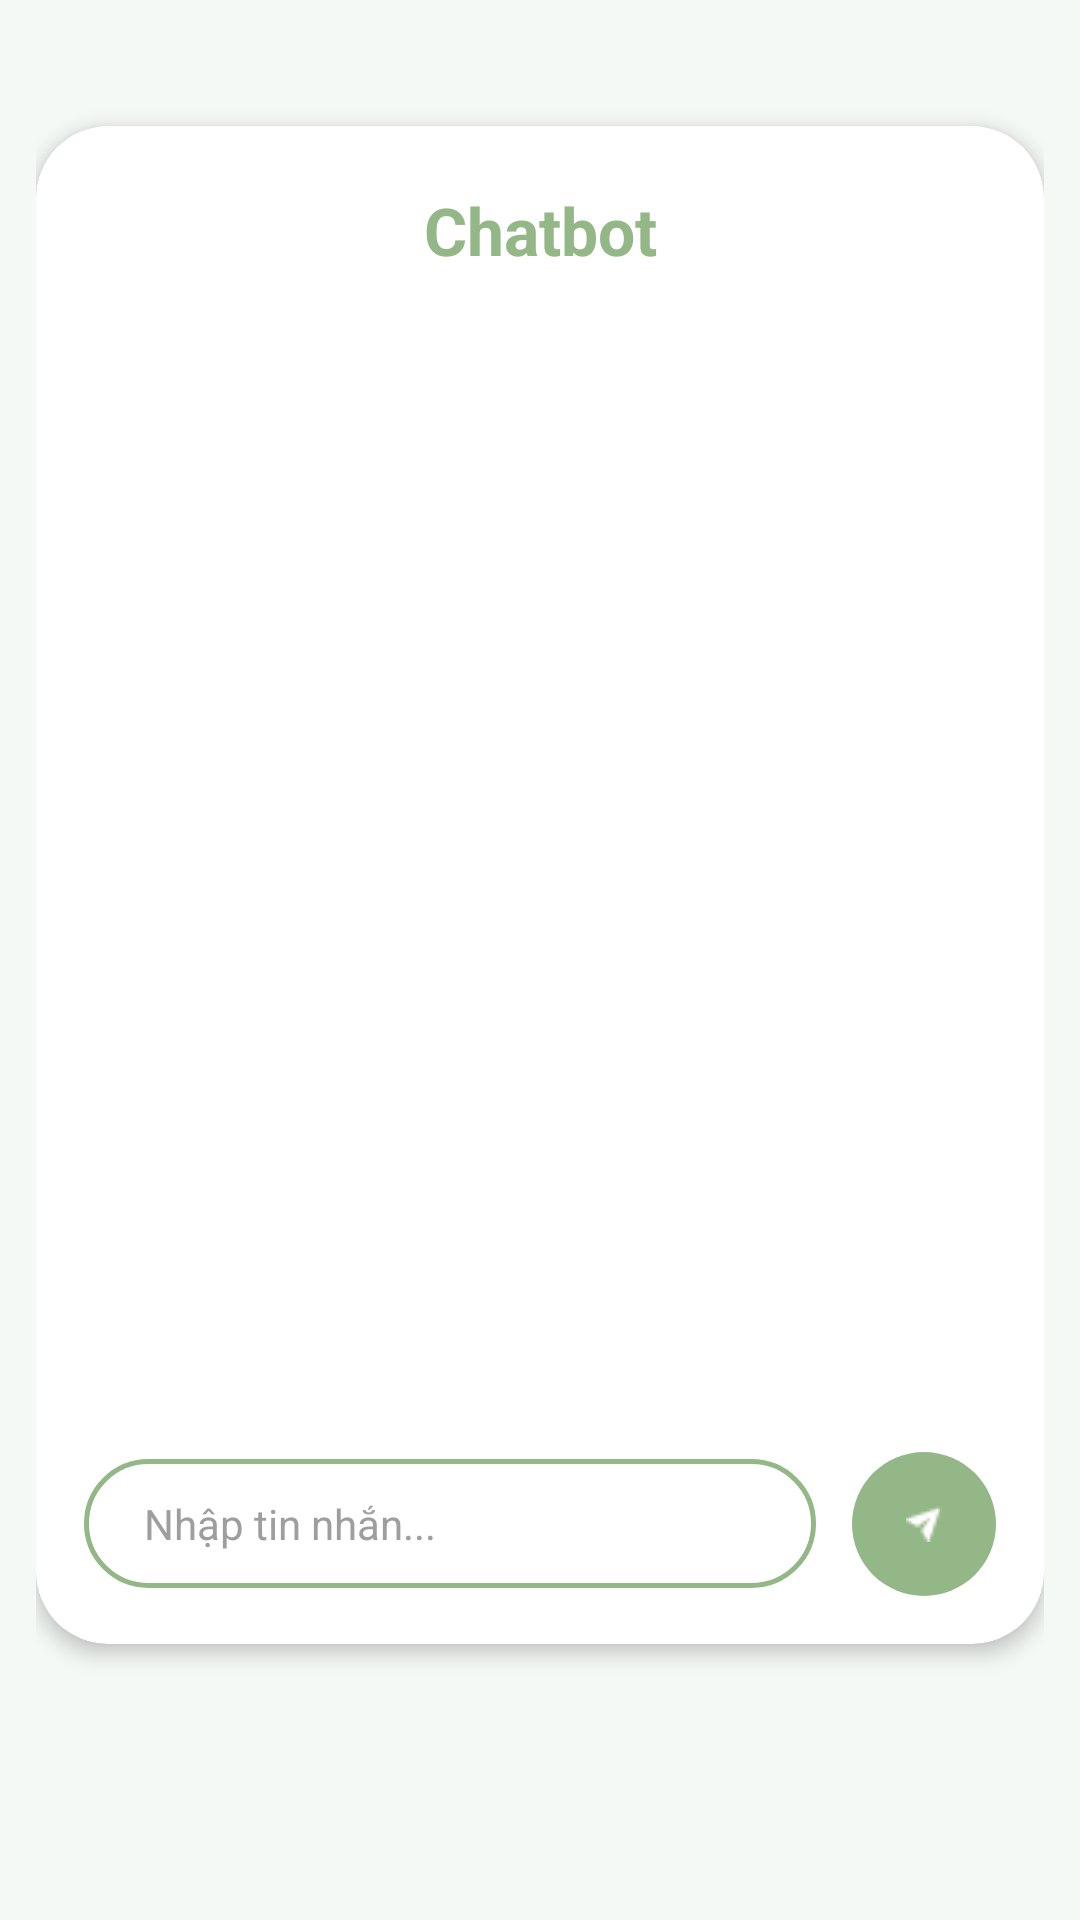

Screen size 1080 x 1920. Icon name, then its center in pixels as point (x, y):
Gửi: point (924, 1524)
